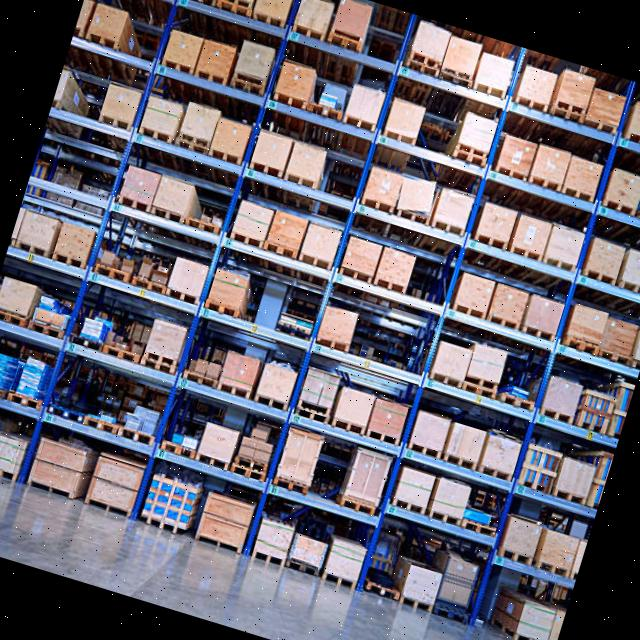Wooden-Pallets: (332, 489, 380, 521), (45, 242, 89, 276), (258, 234, 303, 266), (99, 338, 142, 369), (113, 420, 158, 449), (202, 294, 244, 323), (225, 458, 268, 486), (424, 502, 464, 532), (469, 228, 511, 255), (270, 84, 310, 112), (440, 446, 480, 474), (225, 224, 267, 250), (546, 102, 588, 128), (429, 214, 467, 242), (334, 262, 374, 288), (96, 109, 137, 134), (157, 53, 199, 77), (216, 378, 256, 403), (458, 377, 498, 402), (395, 592, 435, 617), (324, 29, 364, 54), (206, 142, 243, 168), (517, 322, 557, 346), (328, 413, 366, 438), (371, 274, 408, 299), (246, 158, 285, 181), (527, 170, 564, 194), (158, 438, 198, 460), (138, 122, 174, 146), (140, 356, 174, 377)
